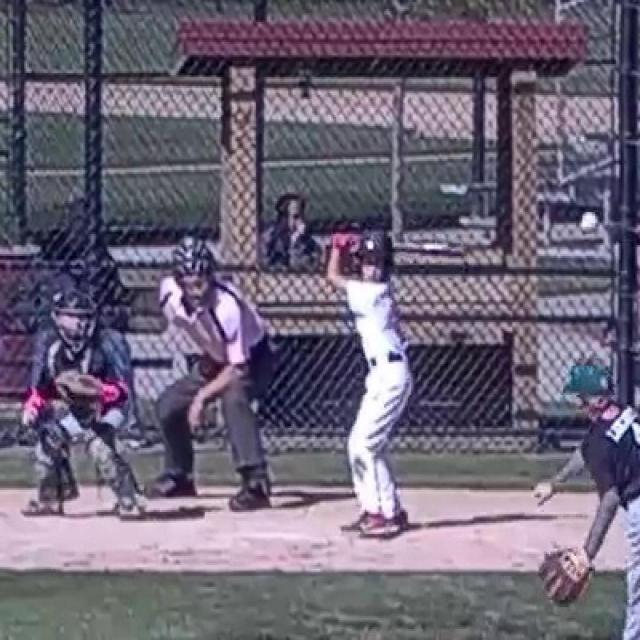baseball: (581, 212, 598, 231)
